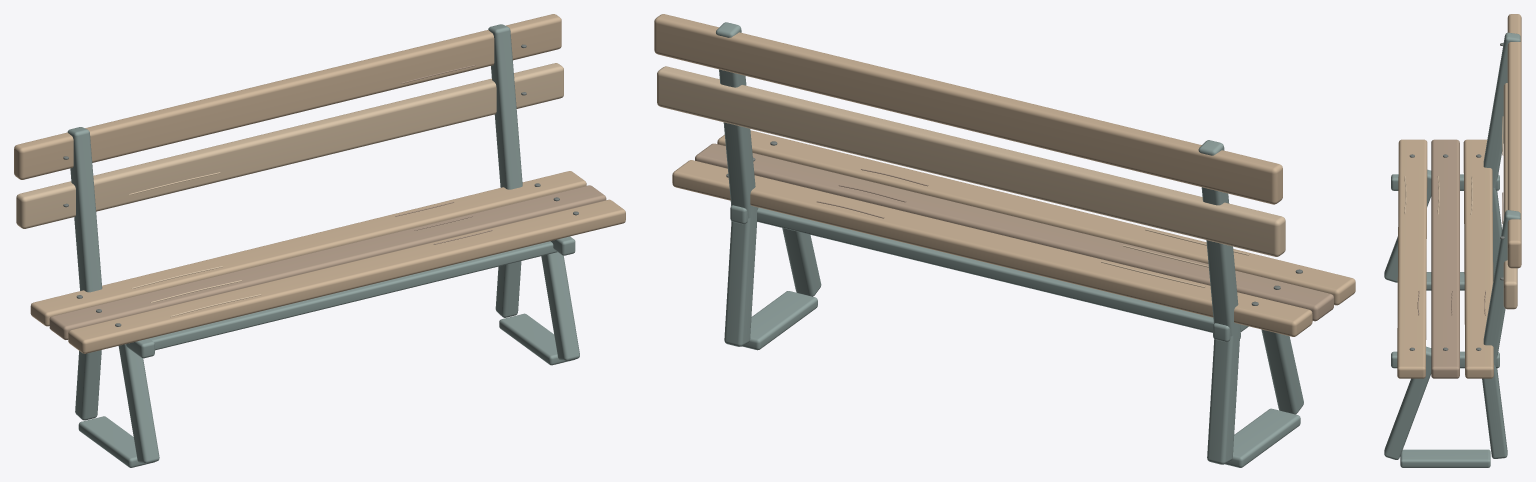
The model's file is bench_playground.glb.
3 views of the same model, side by side, from view 1: azimuth 30°, elevation 25°; view 2: azimuth 150°, elevation 25°; view 3: azimuth 270°, elevation 25° (orthographic). The views are drawn at different scales.
Parts seen in each view (by area): view 1: PROP_Bench_Playground; view 2: PROP_Bench_Playground; view 3: PROP_Bench_Playground.
Part boxes in pixels (x1=…): PROP_Bench_Playground: x1=14, y1=14, x2=625, y2=467; PROP_Bench_Playground: x1=654, y1=14, x2=1355, y2=467; PROP_Bench_Playground: x1=1384, y1=14, x2=1521, y2=467.
Size of the model in its own units: 2.04 by 1.04 by 0.5159.
